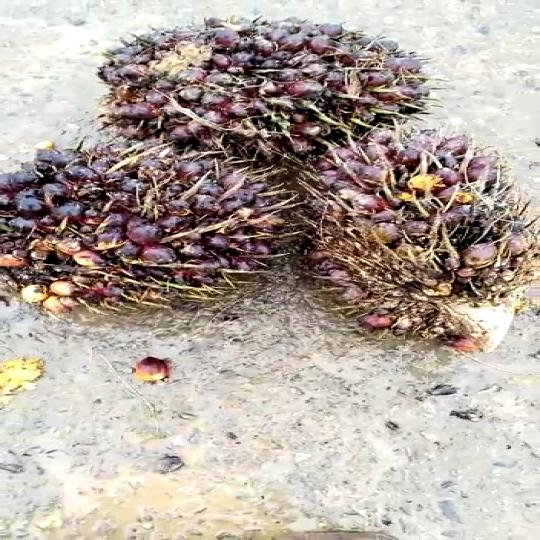kurang masak: (282, 117, 540, 350), (0, 134, 297, 312), (78, 14, 426, 149)
